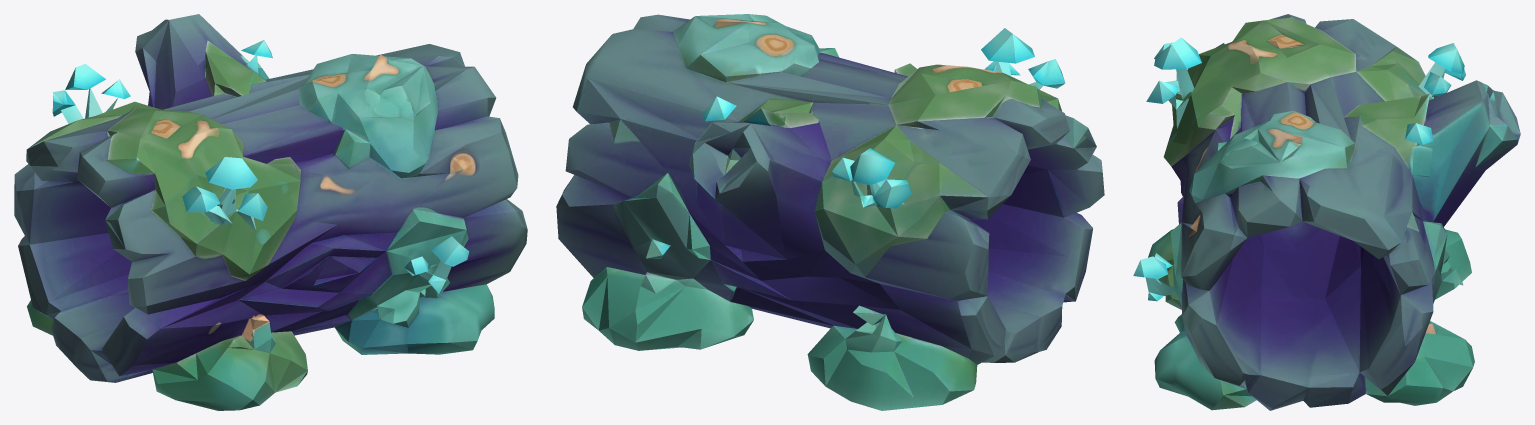
The model's file is mossy_log.glb.
3 views of the same model, side by side, from view 1: azimuth 30°, elevation 25°; view 2: azimuth 150°, elevation 25°; view 3: azimuth 270°, elevation 25° (orthographic). The views are drawn at different scales.
Size of the model in its own units: 1.9 by 1.12 by 1.59.
Materials: 1 (1 with a texture image).
